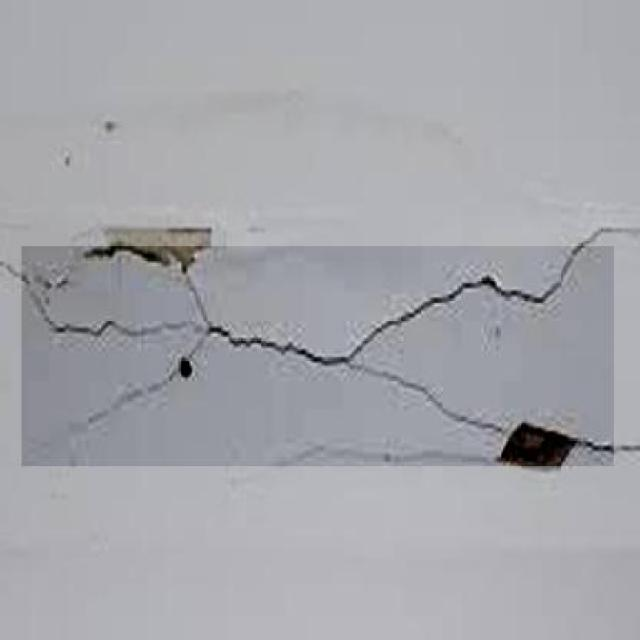Crack: (371, 240, 579, 366), (72, 348, 200, 437), (368, 369, 508, 436), (213, 317, 353, 382), (163, 246, 213, 323), (4, 256, 42, 323), (46, 312, 128, 343)
